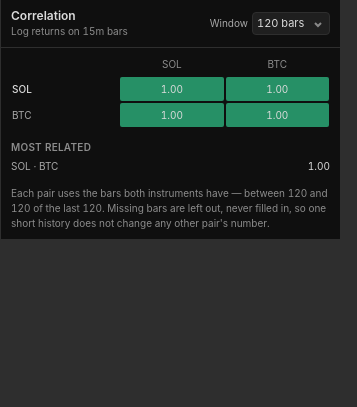
Test: a correlation cell opens the covariance and observation evidence behind it
The width and height of the screenshot is (357, 407).
What coordinates should you click on to do the following:
click the button named "SOLUSDT against BTCUSDT:"
I would click on:
 (277, 89)
Its box is [226,77,329,101].
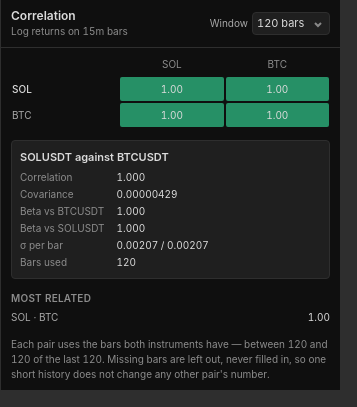
Check: the heading "SOLUSDT against BTCUSDT" is shown, box [20,150,169,164]
Check: the text "Covariance" is shown, box [20,188,74,200]
Check: the text "Bars used" is shown, box [20,256,67,268]
